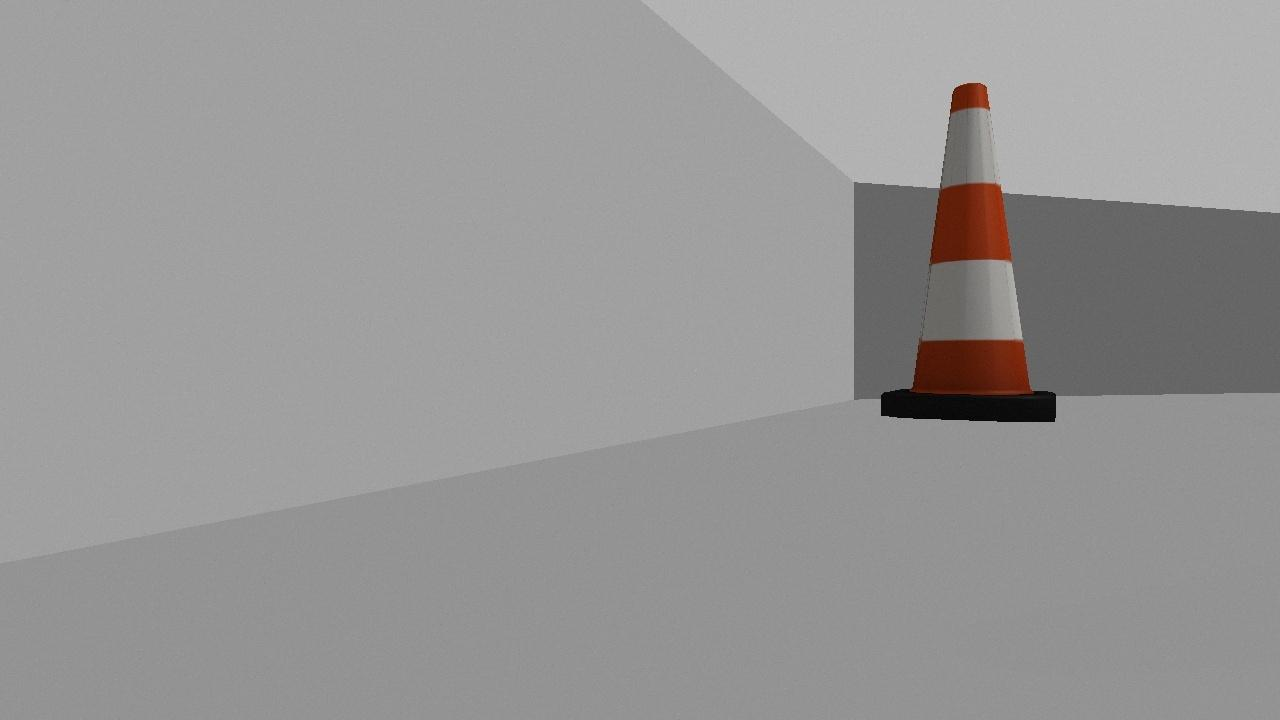cone_barrel: (878, 72, 1054, 422)
